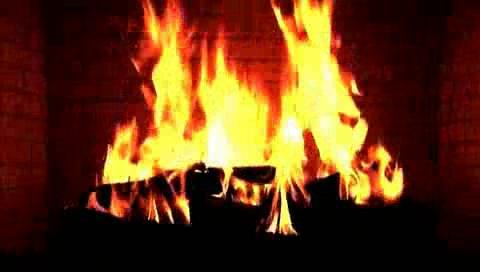fire: (98, 1, 393, 242)
